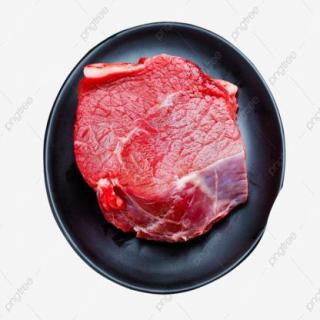Daging Sapi: (73, 56, 249, 248)
